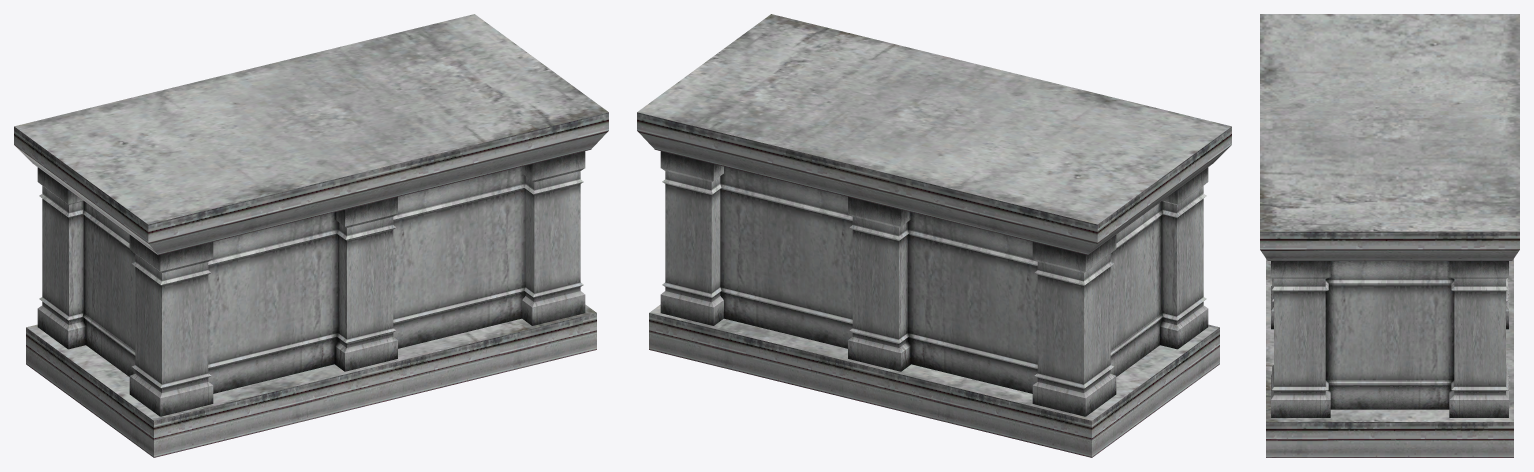
The model's file is altar.fbx.
3 renders of one model, left to right at view 1: azimuth 30°, elevation 25°; view 2: azimuth 150°, elevation 25°; view 3: azimuth 270°, elevation 25°, orthographic. The views are drawn at different scales.
Visible parts, largest first — view 1: mesh_0; view 2: mesh_0; view 3: mesh_0.
Part boxes in pixels (x1,y1,x2,y2): mesh_0: (14,14,608,457); mesh_0: (637,14,1231,457); mesh_0: (1260,14,1519,457).
Size of the model in its own units: 216 by 107 by 109.
Materials: 1 (1 with a texture image).
